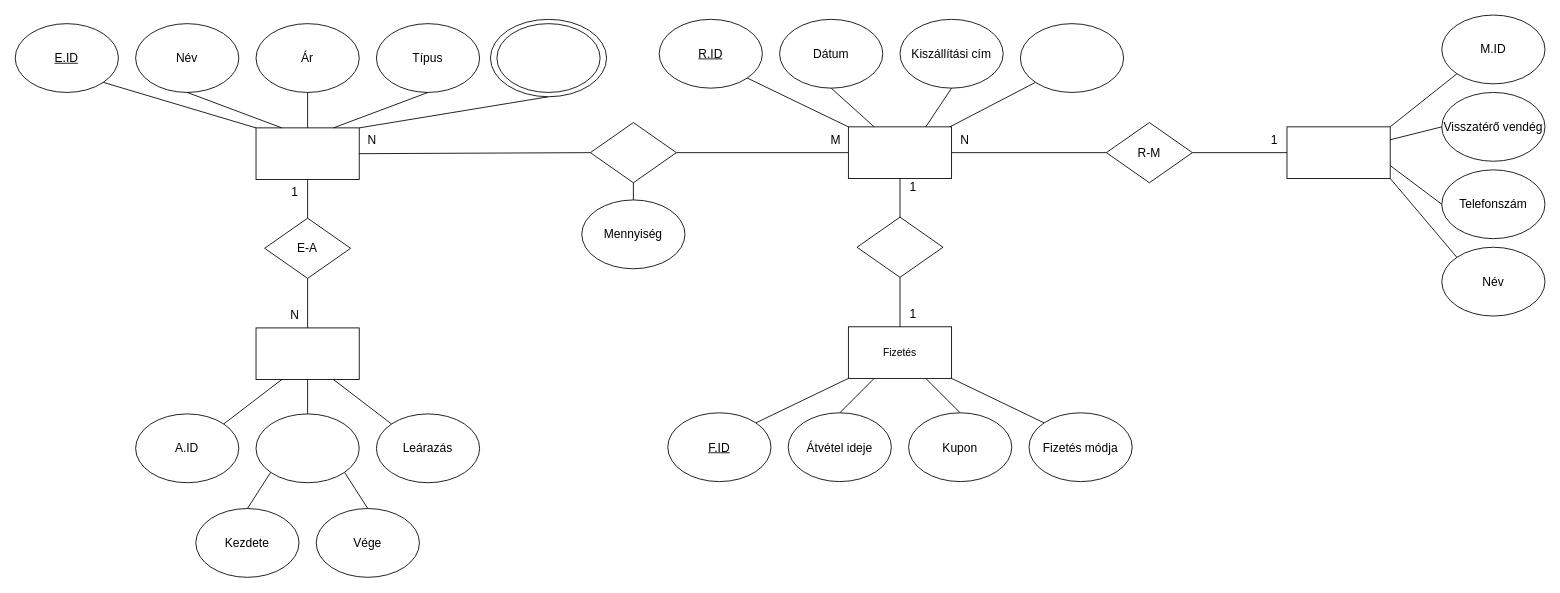
The diagram is 1560 pixels wide and 593 high, and some of its shapes have lost their labels. The box of each missing label's shape, as (x1, y1, x2, y2) in pixels:
Akció: (255, 327, 359, 380)
Allergén: (496, 23, 600, 92)
Időtartam: (255, 413, 359, 483)
Megrendelő: (1286, 126, 1390, 178)
R-F: (856, 216, 943, 277)
Rendelt: (590, 122, 676, 183)
Rendelés: (848, 126, 952, 178)
Étel: (255, 127, 359, 179)
Összeg: (1020, 23, 1124, 92)
